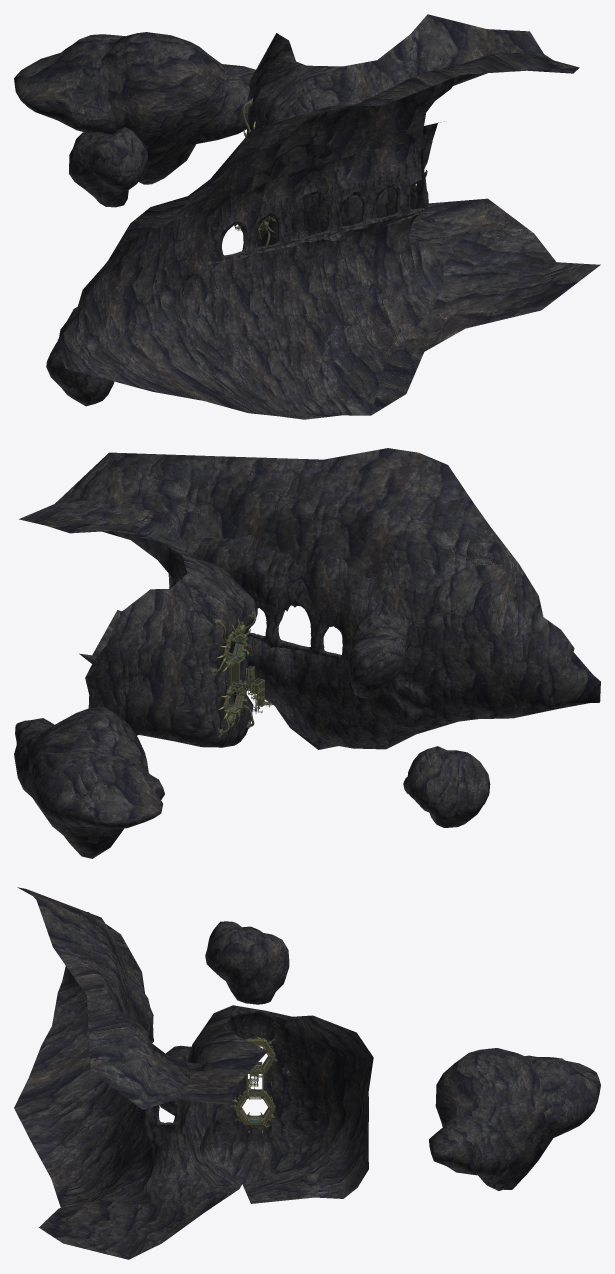
Rendered from stg610_09.obj.
The picture shows the model from 3 angles, top to bottom: view 1: azimuth 30°, elevation 25°; view 2: azimuth 150°, elevation 25°; view 3: azimuth 270°, elevation 25°; orthographic projection. The views are drawn at different scales.
Visible parts, largest first — view 1: polygon105, polygon88, polygon174, polygon87, polygon86; view 2: polygon105, polygon88, polygon174, polygon86, polygon87; view 3: polygon105, polygon88, polygon87, polygon174.
Part boxes in pixels (x1,y1,x2,y2): polygon105: (57, 14, 600, 419); polygon88: (14, 32, 255, 184); polygon174: (197, 121, 444, 266); polygon87: (68, 127, 147, 207); polygon86: (46, 307, 114, 406); polygon105: (19, 448, 600, 749); polygon88: (14, 707, 164, 858); polygon174: (196, 534, 389, 662); polygon86: (403, 746, 490, 827); polygon87: (348, 610, 412, 698); polygon105: (14, 887, 373, 1259); polygon88: (429, 1048, 600, 1190); polygon87: (205, 921, 289, 1004); polygon174: (124, 976, 153, 1140).
Size of the model in its own units: 6658 by 3829 by 6661.
Materials: 23 (23 with a texture image).
